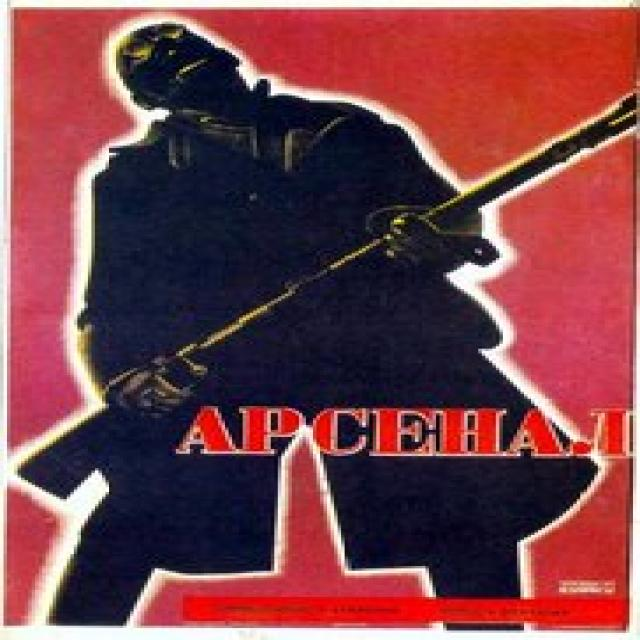movie-judul: (159, 395, 636, 495)
picture: (12, 11, 630, 634)
